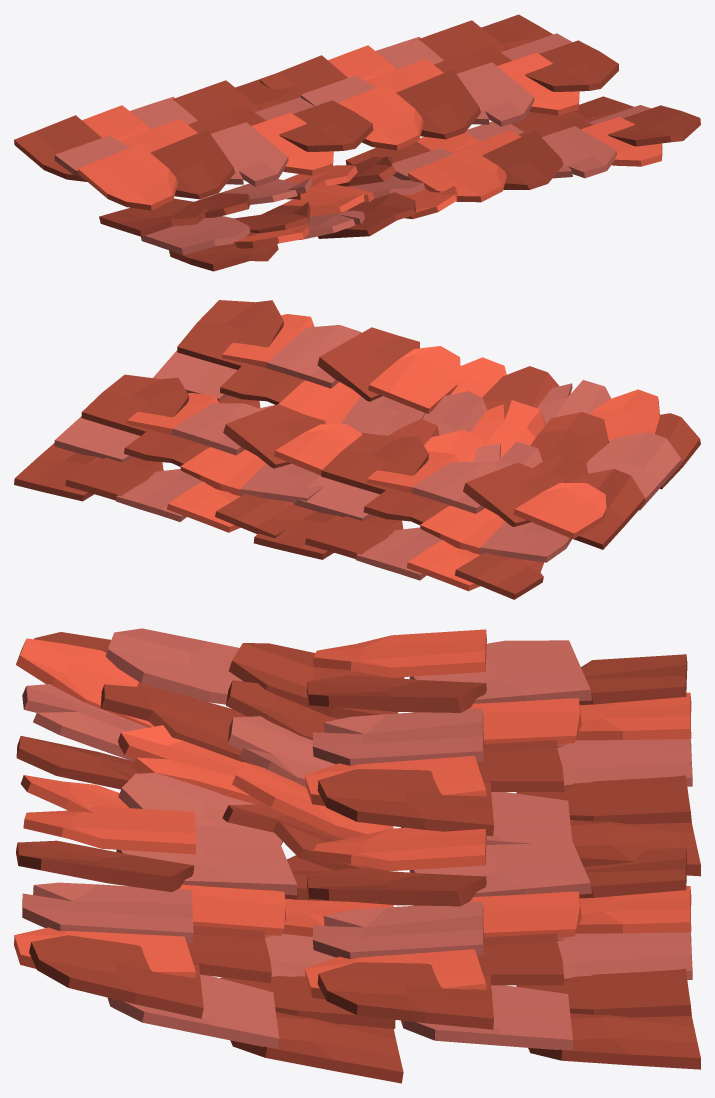
Rendered from RoofTile.fbx.
3 renders of one model, top to bottom at view 1: azimuth 30°, elevation 25°; view 2: azimuth 150°, elevation 25°; view 3: azimuth 270°, elevation 25°, orthographic. The views are drawn at different scales.
Visible parts, largest first — view 1: shingls; view 2: shingls; view 3: shingls.
Boxes of the visible parts, x1,y1,x2,y2 form: shingls: (14, 14, 700, 271); shingls: (14, 300, 700, 599); shingls: (14, 628, 700, 1083).
Bounding box in the file's own units: 524 × 68.53 × 376.
